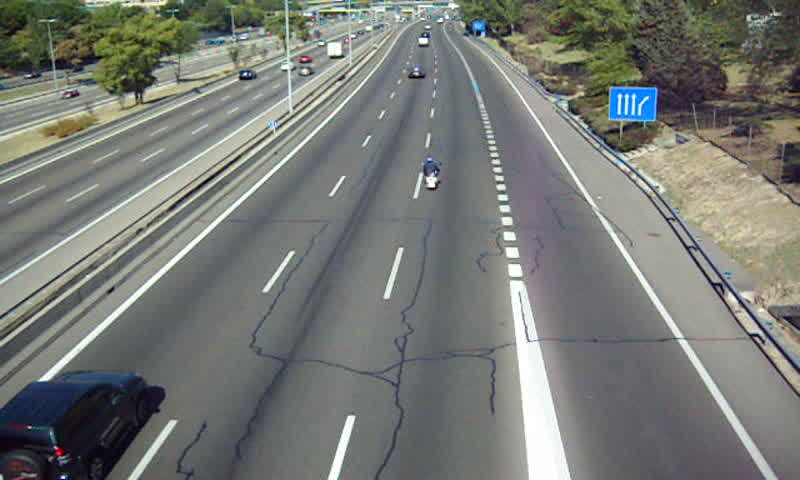car: (1, 370, 147, 480), (406, 66, 427, 81)
motorcycle: (420, 157, 439, 190)
